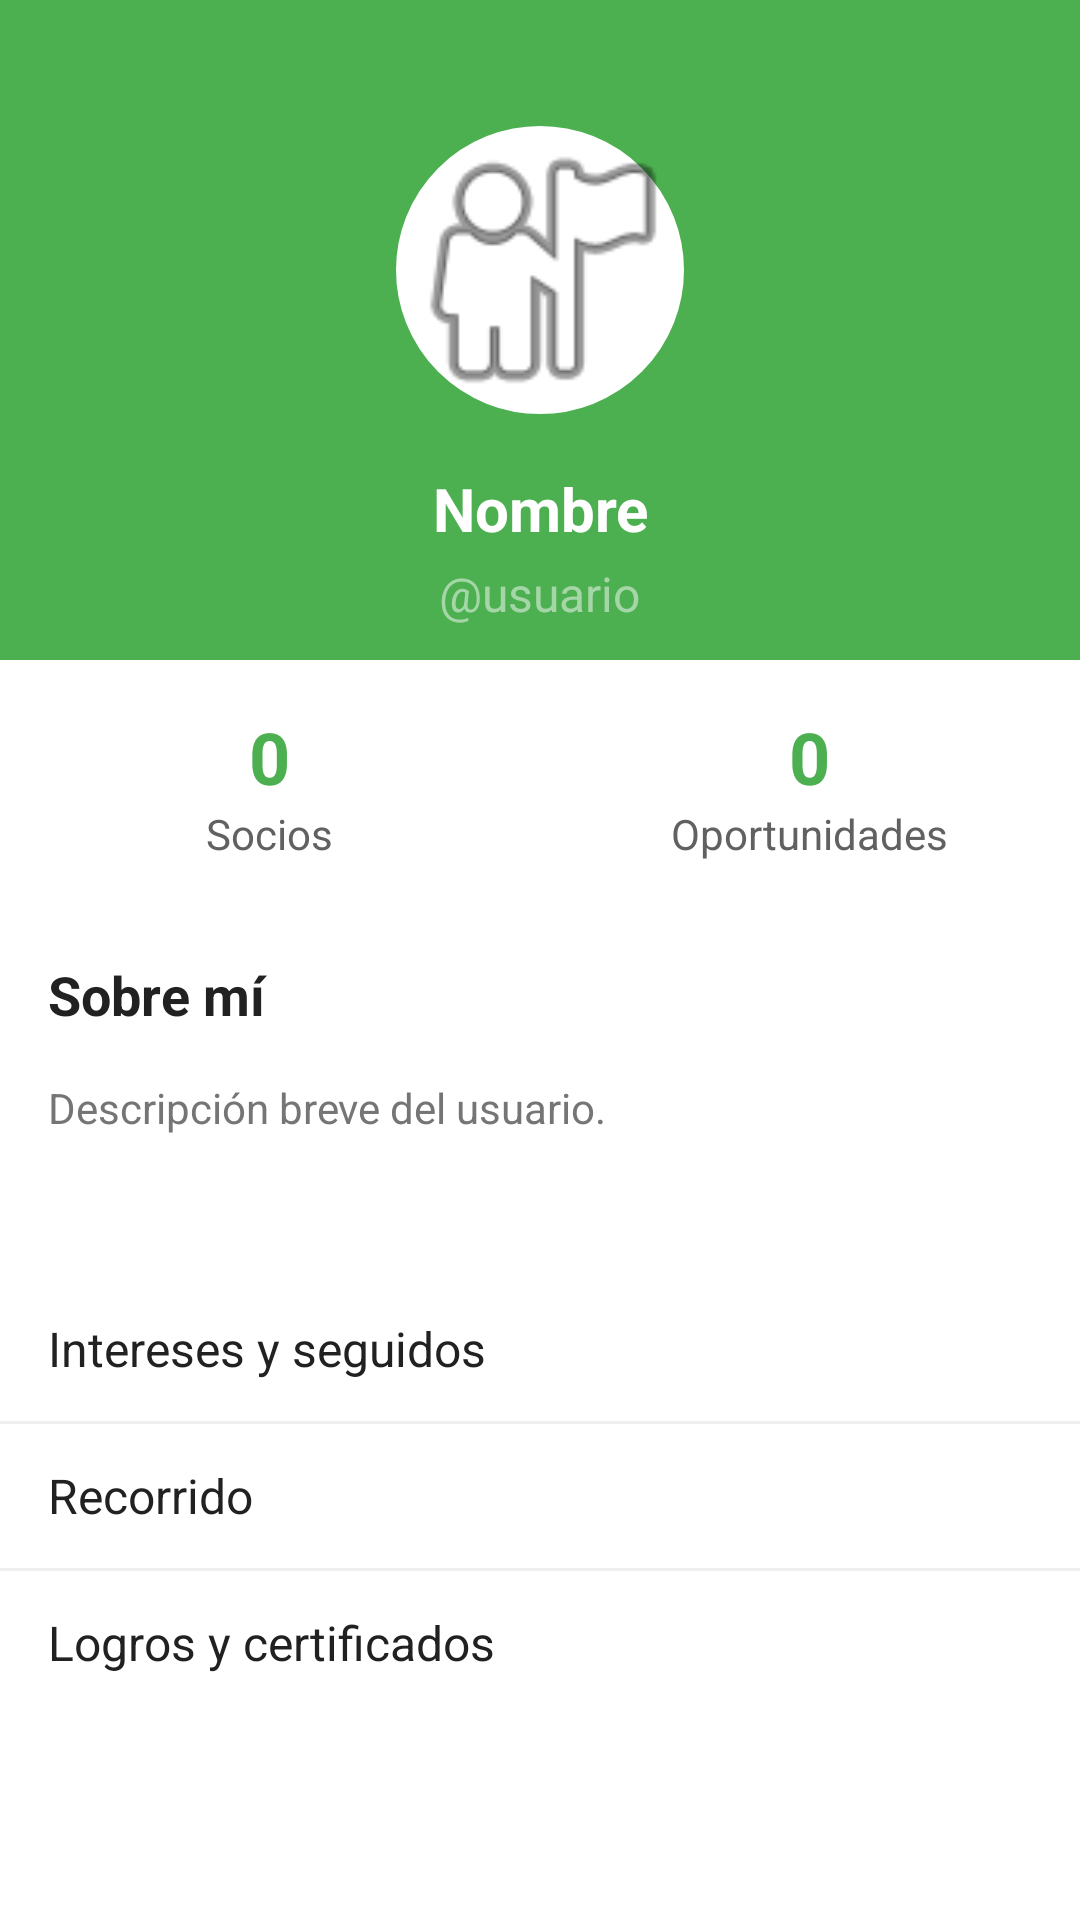

Icon click points for this 1080x1920 phone screenshot, format [x,y]:
Foto de perfil: [540,270]
